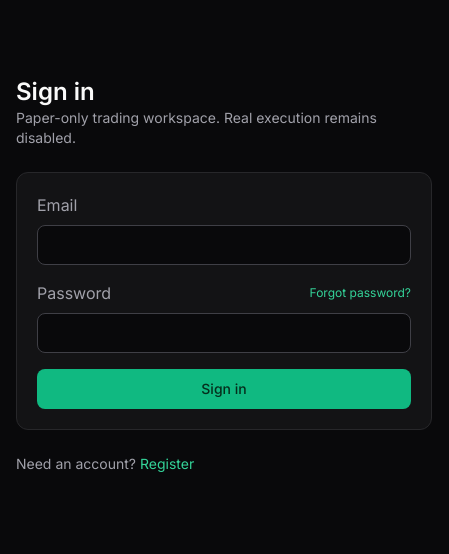
it: auth form accessibility (FP2-112) › marks login fields invalid and points them at the error on failure
Type "t@example.com" into the field labelled "Email".
click(224, 245); type("t@example.com")  # box [37,225,411,265]
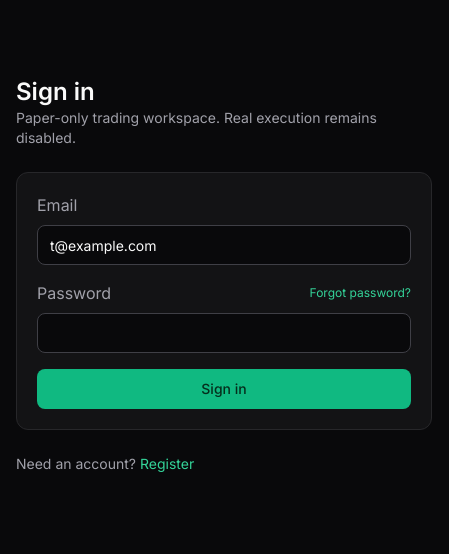
Type "secret" into the password field labelled "Password".
click(224, 333); type("secret")  # box [37,313,411,353]
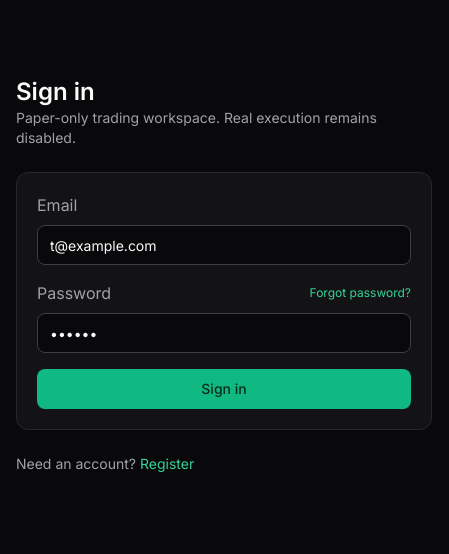
Submit the form "Sign in", box [16,172,432,430]
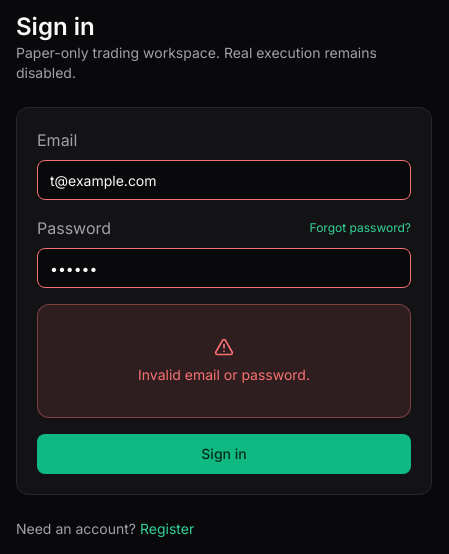
Expected: the message "Invalid email or password." is shown, [37,304,411,418]
